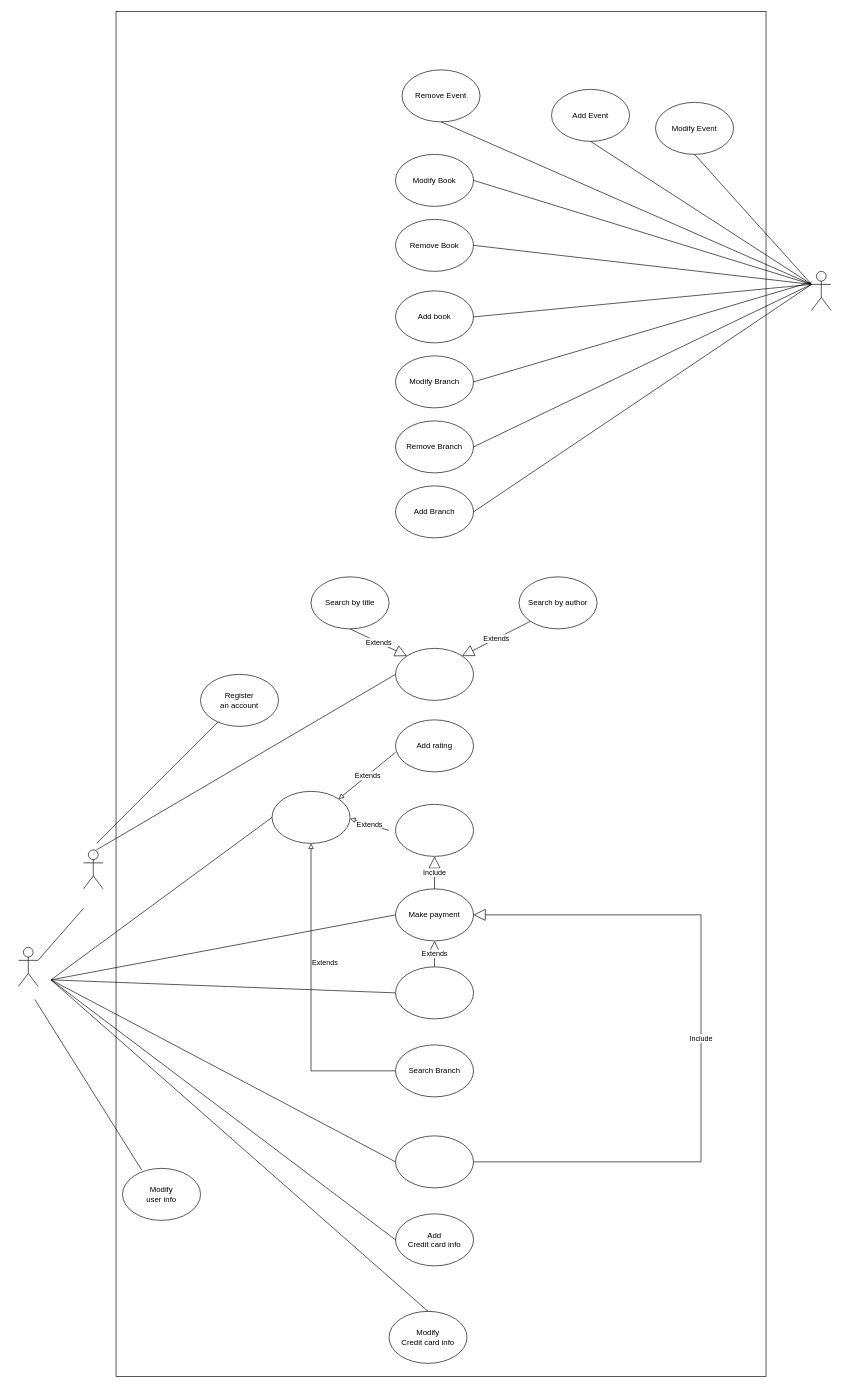
Image size: 843x1388. Some labels were removed from this diagram. Each missing label, with the centre of its shape:
Add book to Basket: pixel 434 830
Admin: pixel 821 290
Apply Coupon: pixel 434 992
Check Order: pixel 434 1161
Customer: pixel 28 966
Guest: pixel 93 869
Search Book: pixel 434 674
View book: pixel 310 817
